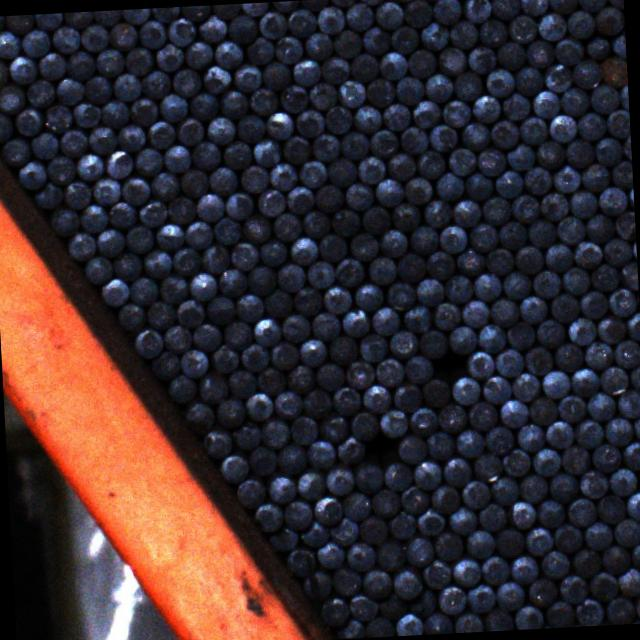tool: (274, 444, 306, 476), (368, 488, 401, 518), (534, 318, 565, 349), (330, 566, 360, 598), (387, 329, 419, 359), (312, 494, 342, 526), (400, 484, 430, 516), (441, 456, 471, 488), (370, 304, 400, 336), (185, 403, 215, 434), (198, 372, 228, 403), (476, 322, 506, 353), (255, 366, 286, 396), (408, 407, 438, 438), (222, 320, 252, 351), (333, 257, 363, 288), (594, 5, 624, 36), (62, 180, 92, 210), (162, 324, 192, 354), (240, 342, 270, 372), (326, 336, 356, 366), (566, 316, 596, 346), (344, 360, 374, 390), (272, 390, 302, 420), (305, 438, 335, 468), (424, 430, 454, 460), (450, 375, 480, 405), (481, 374, 511, 404), (454, 428, 484, 458), (472, 453, 502, 483), (528, 396, 558, 426), (569, 368, 599, 398), (598, 364, 628, 394), (328, 516, 358, 546), (58, 128, 88, 158), (74, 152, 104, 182), (142, 248, 172, 278), (396, 252, 426, 282), (553, 36, 583, 66), (368, 128, 398, 158), (564, 138, 594, 168), (49, 206, 80, 235), (405, 536, 434, 567), (376, 540, 405, 571), (263, 287, 292, 318), (590, 84, 619, 115), (18, 158, 46, 190), (216, 396, 244, 428), (159, 274, 187, 306), (600, 55, 628, 87), (518, 114, 546, 146), (550, 291, 578, 323), (99, 277, 128, 307), (235, 478, 264, 508), (357, 333, 387, 362), (448, 324, 477, 354), (596, 315, 626, 344), (332, 386, 361, 416), (392, 383, 422, 412), (296, 469, 325, 499), (383, 461, 413, 490), (494, 348, 523, 378), (498, 399, 528, 428), (483, 424, 512, 454), (541, 369, 570, 399), (516, 424, 546, 453), (590, 443, 620, 472), (20, 28, 49, 58), (50, 25, 80, 54), (281, 314, 310, 344), (274, 35, 304, 64), (95, 47, 124, 77), (140, 70, 170, 99), (172, 67, 202, 96), (311, 132, 340, 162), (208, 167, 238, 196), (239, 164, 268, 194), (327, 158, 356, 188), (272, 212, 302, 241), (348, 232, 377, 262), (367, 255, 396, 285), (292, 286, 322, 315), (312, 311, 341, 341), (419, 20, 448, 50), (572, 58, 601, 88), (514, 66, 543, 96), (535, 140, 564, 170), (568, 189, 598, 218), (469, 222, 498, 252), (555, 216, 584, 246), (484, 247, 514, 276), (489, 297, 518, 327), (532, 269, 561, 299), (150, 349, 178, 380), (1, 137, 30, 166), (83, 255, 112, 284), (147, 302, 176, 331), (506, 321, 535, 350), (260, 420, 289, 449), (479, 555, 508, 584), (605, 596, 634, 625), (125, 225, 154, 254), (154, 42, 183, 71), (261, 61, 290, 90), (292, 58, 321, 87), (332, 29, 361, 58), (158, 93, 187, 122), (236, 114, 265, 143), (194, 193, 223, 222), (362, 205, 391, 234), (353, 282, 382, 311), (438, 224, 467, 253), (508, 14, 537, 43), (349, 53, 378, 82), (438, 46, 467, 75), (382, 101, 411, 130), (560, 86, 589, 115), (435, 171, 464, 200), (523, 166, 552, 195), (452, 198, 481, 227), (67, 230, 95, 260), (134, 328, 162, 358), (303, 570, 331, 600), (46, 154, 74, 184), (128, 276, 158, 304), (284, 500, 312, 530), (348, 593, 378, 621), (210, 343, 238, 373), (270, 340, 298, 370), (298, 338, 326, 368), (418, 328, 446, 358), (302, 390, 330, 420), (350, 412, 378, 442), (324, 467, 354, 495), (342, 492, 370, 522), (437, 403, 465, 433), (412, 459, 440, 489), (586, 391, 614, 421), (574, 418, 602, 448), (393, 570, 421, 600), (422, 560, 450, 590), (452, 558, 480, 588), (568, 497, 596, 527), (524, 526, 552, 556), (590, 571, 618, 601), (601, 545, 629, 575), (66, 50, 94, 80), (82, 74, 110, 104), (88, 126, 116, 156), (252, 316, 280, 346), (247, 266, 275, 296), (166, 17, 194, 47), (258, 10, 286, 40), (219, 90, 247, 120), (296, 108, 324, 138), (162, 144, 190, 174), (190, 140, 218, 170), (150, 171, 178, 201), (269, 162, 297, 192), (356, 154, 384, 184), (314, 184, 344, 212), (456, 246, 484, 276), (442, 274, 472, 302), (478, 18, 506, 48), (366, 77, 394, 107), (394, 76, 424, 104), (544, 62, 572, 92), (470, 94, 500, 122), (576, 112, 606, 140), (386, 152, 416, 180), (552, 164, 580, 194), (510, 194, 540, 222), (585, 214, 613, 244), (514, 244, 542, 274), (502, 270, 530, 300), (518, 294, 546, 324), (608, 287, 636, 317), (116, 302, 144, 331), (286, 548, 314, 577), (8, 56, 36, 85), (179, 349, 208, 377), (232, 420, 260, 449), (403, 355, 431, 384), (379, 409, 407, 438), (354, 463, 382, 492), (468, 401, 496, 430), (605, 417, 633, 446), (500, 448, 529, 476), (532, 448, 560, 477), (430, 486, 459, 514), (579, 470, 608, 498), (359, 515, 387, 544), (415, 507, 444, 535), (448, 506, 476, 535), (437, 586, 465, 615), (584, 521, 612, 550), (572, 549, 600, 578), (38, 51, 66, 80), (44, 104, 72, 133), (116, 123, 144, 152), (134, 148, 163, 176), (92, 176, 120, 205), (172, 247, 200, 276), (176, 299, 204, 328), (192, 323, 220, 352), (80, 23, 108, 52), (108, 22, 137, 50), (288, 7, 316, 36), (112, 73, 140, 102), (202, 64, 230, 93), (233, 63, 261, 92), (129, 96, 157, 125), (250, 86, 278, 115), (280, 83, 308, 112), (353, 105, 381, 134), (298, 159, 326, 188), (224, 192, 253, 220), (344, 182, 372, 211), (373, 178, 402, 206), (404, 175, 432, 204), (424, 198, 452, 227), (201, 244, 229, 273), (387, 282, 416, 310), (433, 302, 461, 331), (538, 12, 566, 41), (379, 51, 407, 80), (408, 49, 436, 78), (467, 46, 496, 74), (424, 73, 452, 102), (454, 71, 482, 100), (486, 67, 514, 96), (502, 91, 530, 120), (428, 123, 457, 151), (448, 147, 476, 176), (477, 148, 506, 176), (581, 163, 609, 192), (598, 187, 626, 216), (498, 220, 526, 249), (573, 240, 602, 268), (562, 266, 590, 295), (579, 290, 608, 318), (26, 78, 53, 108), (362, 384, 389, 414), (422, 378, 449, 408), (466, 350, 493, 380), (524, 345, 551, 375), (544, 421, 574, 448), (613, 338, 640, 368), (510, 554, 537, 584), (235, 292, 262, 322), (228, 14, 255, 44), (125, 46, 152, 76), (207, 116, 234, 146), (404, 304, 431, 334), (402, 0, 432, 27), (595, 136, 622, 166), (168, 374, 196, 402), (220, 455, 248, 483), (254, 504, 282, 532), (113, 252, 141, 280), (315, 362, 343, 390), (244, 392, 272, 420), (318, 415, 346, 443), (335, 436, 363, 464), (398, 436, 426, 464), (518, 474, 546, 502), (609, 468, 637, 496), (346, 542, 374, 570), (466, 530, 494, 558), (466, 584, 494, 612), (496, 530, 524, 558), (540, 550, 568, 578), (553, 524, 581, 552), (529, 578, 557, 606), (55, 78, 83, 106), (100, 100, 128, 128), (108, 200, 136, 228), (188, 272, 216, 300), (198, 14, 226, 42), (246, 36, 274, 64), (189, 92, 217, 120), (308, 82, 336, 110), (252, 139, 280, 167), (256, 188, 284, 216), (391, 202, 419, 230), (230, 242, 258, 270), (290, 237, 318, 265), (318, 233, 346, 261), (277, 264, 305, 292), (426, 250, 454, 278), (345, 2, 373, 30), (390, 24, 418, 52), (566, 10, 594, 38), (498, 42, 526, 70), (526, 40, 554, 68), (412, 98, 440, 126), (532, 90, 560, 118), (491, 120, 519, 148), (548, 114, 576, 142), (416, 150, 444, 178), (494, 170, 522, 198), (540, 192, 568, 220), (321, 597, 348, 626), (95, 228, 124, 255), (375, 357, 402, 386), (555, 342, 582, 371), (561, 446, 588, 475), (462, 479, 489, 508), (121, 178, 150, 205), (207, 295, 234, 324), (219, 267, 246, 296), (185, 40, 212, 69), (337, 79, 364, 108), (241, 215, 270, 242), (409, 226, 436, 255), (474, 271, 501, 300), (462, 299, 489, 328), (362, 25, 389, 54), (505, 143, 534, 170), (482, 196, 509, 225), (590, 263, 619, 290), (250, 446, 276, 476), (286, 364, 312, 394), (364, 570, 390, 600), (479, 502, 505, 532), (436, 532, 462, 562), (576, 597, 602, 627), (286, 185, 312, 215), (528, 218, 554, 248), (546, 242, 572, 272), (33, 182, 60, 210), (202, 429, 230, 456), (15, 108, 42, 136), (80, 204, 107, 232), (316, 541, 344, 568), (228, 371, 255, 399), (377, 592, 404, 620), (546, 600, 573, 628), (138, 200, 166, 227), (168, 196, 195, 224), (185, 220, 212, 248), (138, 20, 165, 48), (317, 6, 344, 34), (214, 41, 242, 68), (304, 32, 332, 59), (322, 56, 349, 84), (148, 120, 175, 148), (223, 140, 250, 168), (301, 210, 329, 237), (332, 208, 359, 236), (379, 228, 406, 256), (323, 285, 350, 313), (416, 278, 443, 306), (449, 20, 476, 48), (442, 99, 469, 127), (463, 122, 490, 150), (604, 239, 631, 267), (491, 476, 517, 505), (560, 574, 586, 603), (106, 150, 132, 179), (266, 111, 292, 140), (324, 105, 350, 134), (283, 135, 309, 164), (342, 308, 368, 337), (31, 132, 58, 159), (496, 583, 523, 610), (156, 223, 183, 250), (259, 239, 286, 266), (306, 260, 333, 287), (376, 1, 403, 28), (300, 520, 328, 546), (290, 416, 316, 444), (512, 373, 538, 401), (558, 394, 584, 422), (584, 342, 612, 368), (538, 499, 564, 527), (598, 494, 624, 522), (614, 517, 640, 545), (177, 116, 203, 144), (342, 132, 368, 160), (180, 168, 206, 196), (213, 217, 239, 245), (401, 126, 427, 154), (466, 172, 492, 200), (432, 0, 461, 25), (267, 527, 297, 551), (606, 109, 630, 139), (268, 476, 295, 502), (550, 474, 576, 501), (389, 513, 416, 539), (514, 605, 542, 630), (0, 85, 24, 114), (510, 499, 534, 528), (617, 567, 640, 597), (409, 590, 435, 616), (73, 102, 101, 126), (617, 390, 640, 418), (615, 210, 636, 240), (395, 612, 421, 636), (424, 611, 450, 635), (463, 0, 491, 22), (612, 160, 634, 188), (336, 618, 363, 640), (365, 617, 393, 638), (486, 610, 512, 632), (454, 612, 481, 633), (0, 30, 20, 58), (492, 0, 520, 20), (5, 15, 32, 35), (620, 260, 638, 290), (622, 441, 640, 468), (586, 37, 608, 59), (34, 14, 62, 31), (64, 12, 92, 29), (610, 29, 626, 58), (122, 8, 150, 24), (520, 0, 547, 16), (625, 491, 640, 519), (211, 4, 239, 19), (627, 362, 640, 393), (626, 312, 640, 340), (94, 10, 122, 24), (182, 6, 210, 20), (240, 2, 268, 16), (152, 7, 178, 22), (549, 0, 577, 13), (578, 0, 606, 13), (0, 112, 11, 141), (301, 0, 327, 10), (632, 413, 640, 442), (632, 543, 640, 571), (0, 60, 6, 89), (607, 0, 624, 9), (635, 593, 640, 622)
void: (362, 434, 398, 466), (430, 353, 466, 383)
